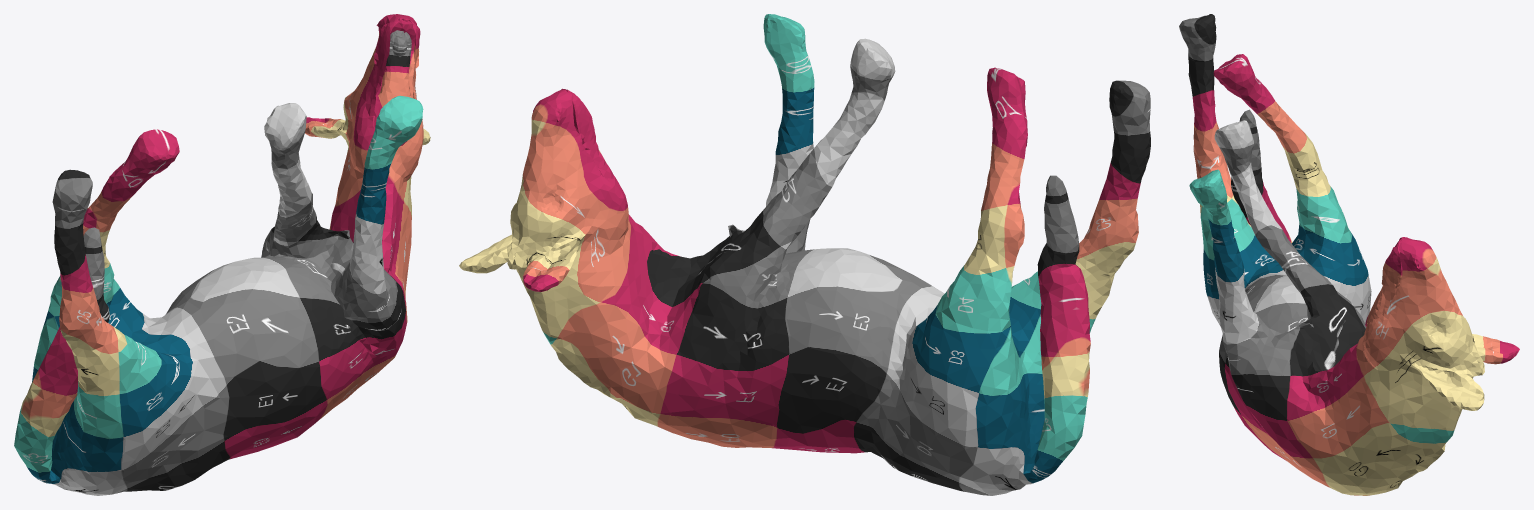
The model's file is cougar_02-horse_05.obj.
3 renders of one model, left to right at view 1: azimuth 30°, elevation 25°; view 2: azimuth 150°, elevation 25°; view 3: azimuth 270°, elevation 25°, orthographic. The views are drawn at different scales.
Visible parts, largest first — view 1: cougar_02-horse_05_export; view 2: cougar_02-horse_05_export; view 3: cougar_02-horse_05_export.
Boxes of the visible parts, left/top/right/bottom form: cougar_02-horse_05_export: left=14, top=14, right=430, bottom=495; cougar_02-horse_05_export: left=459, top=14, right=1150, bottom=495; cougar_02-horse_05_export: left=1179, top=14, right=1519, bottom=495.
Bounding box in the file's own units: 0.8319 × 0.5827 × 0.5187.
